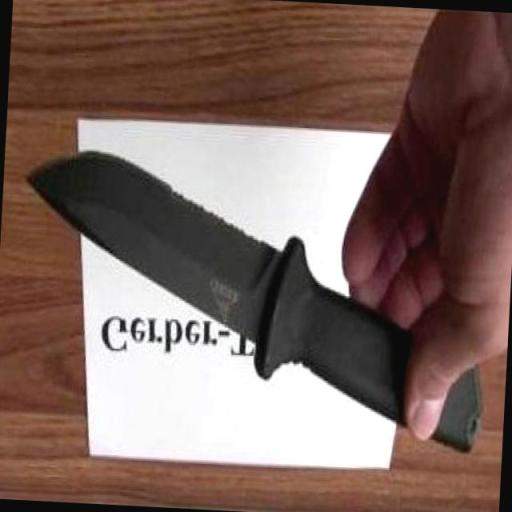knife: (12, 149, 496, 456)
